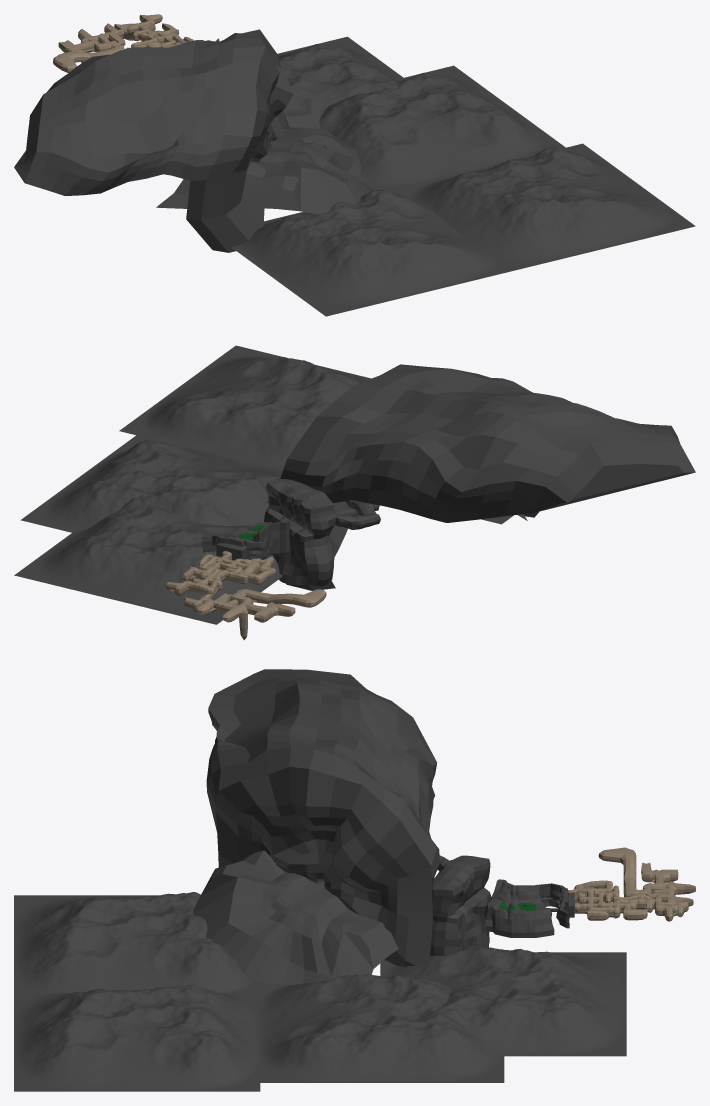
Rendered from platform final.fbx.
The picture shows the model from 3 angles, top to bottom: view 1: azimuth 30°, elevation 25°; view 2: azimuth 150°, elevation 25°; view 3: azimuth 270°, elevation 25°; orthographic projection. The views are drawn at different scales.
Parts seen in each view (by area): view 1: Cube, Landscape.001, Landscape.003, Landscape, Landscape.004, Cube.001; view 2: Cube, Landscape.001, Landscape.004, Landscape, Cube.001, Cube.002, Cube.003; view 3: Cube, Landscape.001, Landscape, Landscape.003, Landscape.004, Cube.001, Cube.002.
Part boxes in pixels (x1,y1,x2,y2): Cube: (14,29,373,252); Landscape.001: (409,143,695,268); Landscape.003: (232,186,521,316); Landscape: (319,65,566,191); Landscape.004: (277,36,404,128); Cube.001: (53,14,193,72); Cube: (232,364,695,590); Landscape.001: (119,345,370,469); Landscape.004: (14,495,283,624); Landscape: (20,434,282,532); Cube.001: (165,551,326,639); Cube.002: (202,535,268,560); Cube.003: (290,500,380,532); Cube: (193,669,554,984); Landscape.001: (14,984,260,1091); Landscape: (258,974,504,1082); Landscape.003: (14,892,260,999); Landscape.004: (380,947,626,1056); Cube.001: (568,847,695,921); Cube.002: (539,883,574,928).
Bounding box in the file's own units: 48153 × 16258 × 46823.
